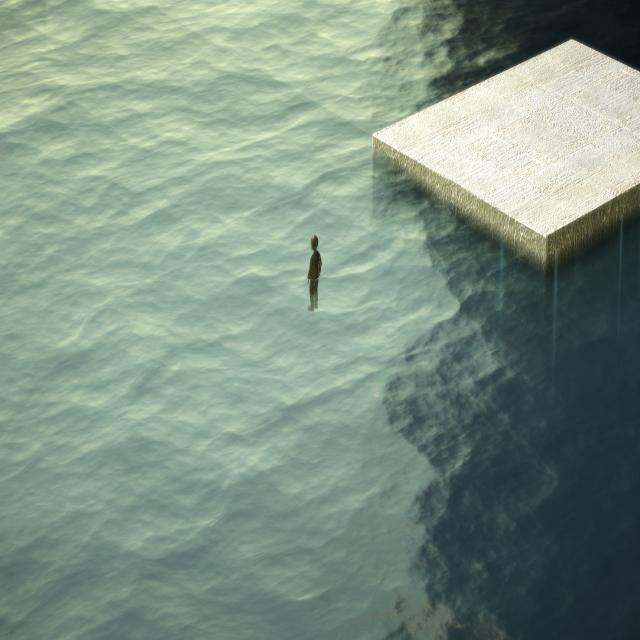Human: (305, 235, 323, 314)
